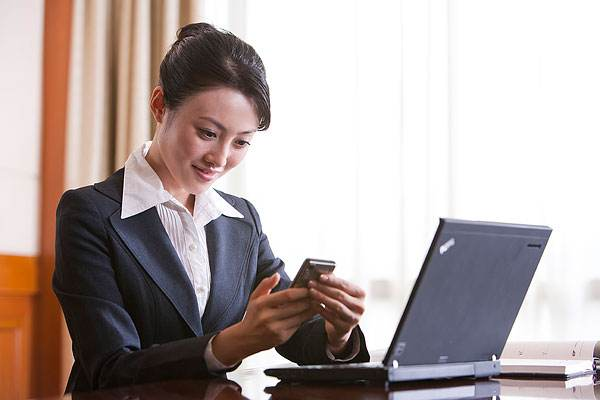reading: (230, 251, 369, 352)
